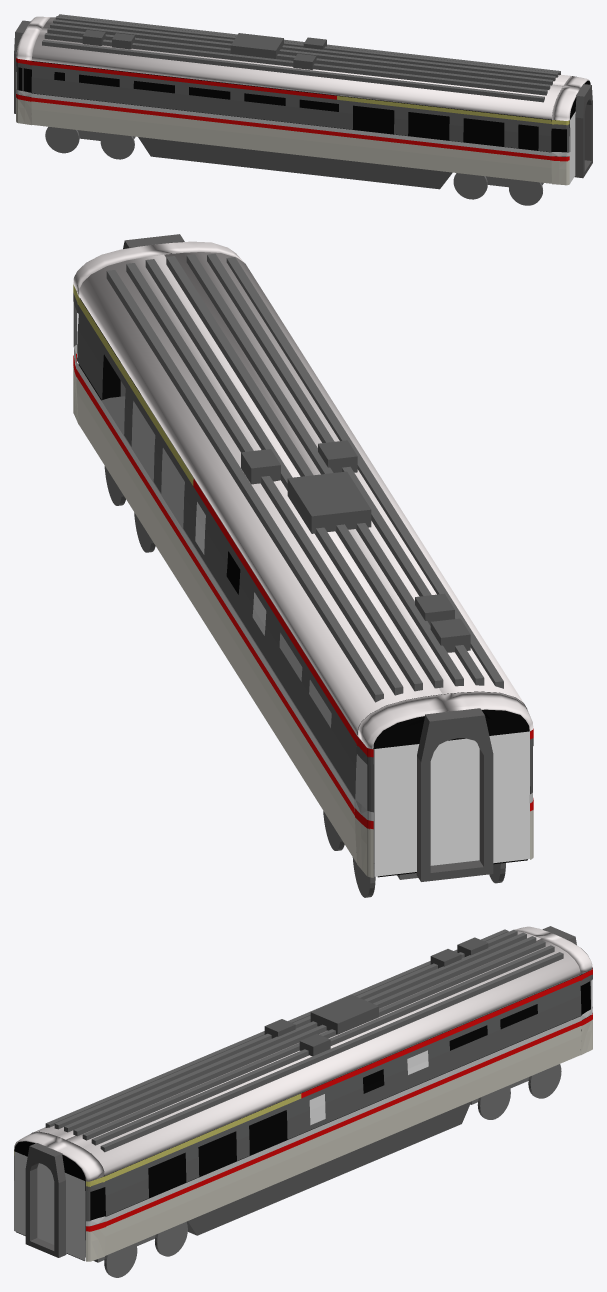
Rendered from br-mk3-trfb-ic.dae.
The picture shows the model from 3 angles, top to bottom: view 1: azimuth 30°, elevation 25°; view 2: azimuth 150°, elevation 25°; view 3: azimuth 270°, elevation 25°; orthographic projection. The views are drawn at different scales.
Visible parts, largest first — view 1: Plane_007, Suzanne_001, Plane_111, Cube, Plane_017, Cube_011, Cube_010, Plane_004, Cube_008, Cube_009, Plane_022, Plane_005 (+23 smaller); view 2: Suzanne_001, Plane_100, Plane_134, Tube_002, Cube_003, Cube_002, Plane_015, Cube_008, Suzanne, Plane_002, Cube_004, Cube_009 (+14 smaller); view 3: Suzanne_001, Plane_134, Plane_015, Plane_111, Cube, Cube_003, Plane_001, Cube_002, Cube_008, Cube_004, Cube_009, Tube_003 (+16 smaller).
Boxes of the visible parts, left/top/right/bottom form: Plane_007: left=31, top=101, right=551, bottom=183; Suzanne_001: left=32, top=17, right=572, bottom=119; Plane_111: left=27, top=60, right=569, bottom=156; Cube: left=138, top=137, right=452, bottom=189; Plane_017: left=50, top=79, right=352, bottom=129; Cube_011: left=42, top=40, right=544, bottom=102; Cube_010: left=44, top=33, right=547, bottom=95; Plane_004: left=32, top=65, right=551, bottom=127; Cube_008: left=50, top=23, right=552, bottom=85; Cube_009: left=47, top=28, right=550, bottom=89; Plane_022: left=31, top=93, right=551, bottom=156; Plane_005: left=31, top=97, right=551, bottom=160; Suzanne_001: left=79, top=252, right=526, bottom=735; Plane_100: left=374, top=731, right=529, bottom=876; Plane_134: left=76, top=377, right=356, bottom=862; Tube_002: left=416, top=708, right=493, bottom=881; Cube_003: left=106, top=270, right=383, bottom=702; Cube_002: left=126, top=263, right=403, bottom=695; Plane_015: left=183, top=482, right=332, bottom=762; Cube_008: left=166, top=256, right=443, bottom=688; Suzanne: left=357, top=691, right=533, bottom=748; Plane_002: left=101, top=394, right=374, bottom=870; Cube_004: left=145, top=259, right=422, bottom=691; Cube_009: left=186, top=254, right=463, bottom=686; Suzanne_001: left=32, top=931, right=580, bottom=1175; Plane_134: left=104, top=1026, right=581, bottom=1255; Plane_015: left=286, top=1013, right=540, bottom=1139; Plane_111: left=85, top=986, right=554, bottom=1220; Cube: left=187, top=1101, right=471, bottom=1235; Cube_003: left=100, top=952, right=563, bottom=1152; Plane_001: left=14, top=1151, right=85, bottom=1260; Cube_002: left=91, top=945, right=554, bottom=1145; Cube_008: left=73, top=936, right=536, bottom=1136; Cube_004: left=82, top=940, right=545, bottom=1140; Cube_009: left=64, top=932, right=526, bottom=1132; Tube_003: left=25, top=1143, right=66, bottom=1257.
Size of the model in its own units: 10.52 by 10.52 by 2.96.
